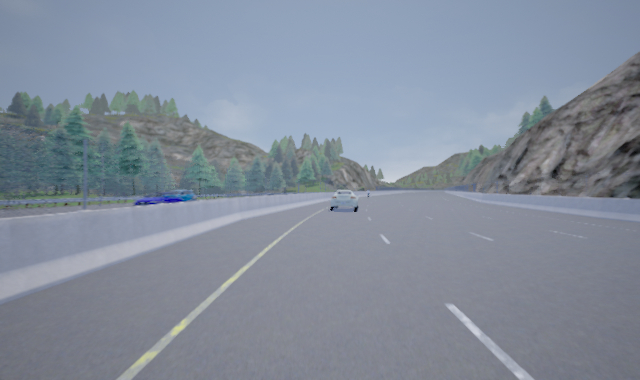vehicle: (328, 189, 359, 212), (159, 188, 197, 203), (134, 192, 160, 207)
